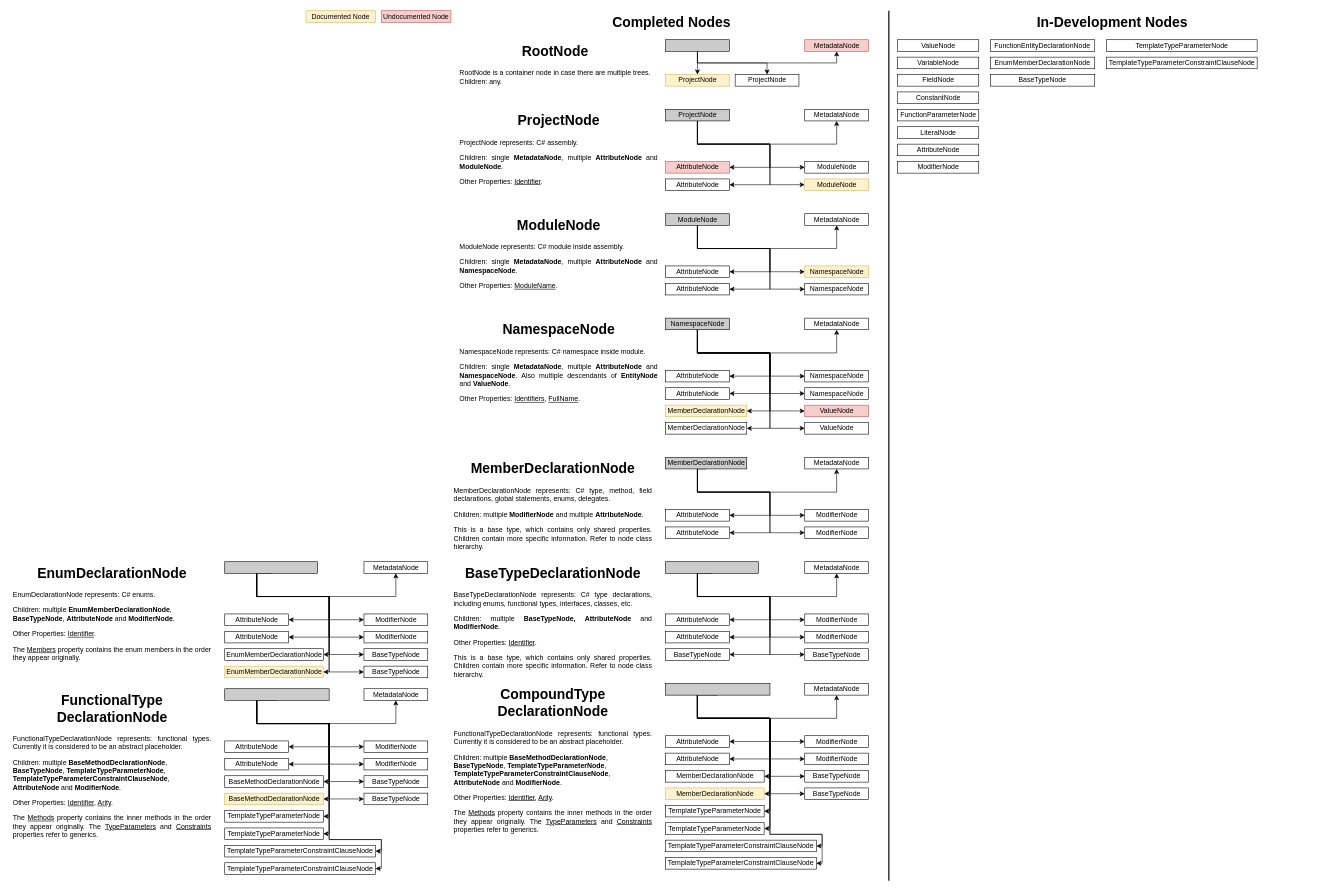
This 1342x891 diagram has some shape labels left out. Here are the shapes that lost their labels. From the top down, the centre of each, then its label:
At point (697, 45): "RootNode".
At point (271, 567): "EnumDeclarationNode".
At point (711, 567): "BaseTypeDeclarationNode".
At point (276, 694): "FunctionalTypeDeclarationNode".
At point (717, 689): "CompoundTypeDeclarationNode".
